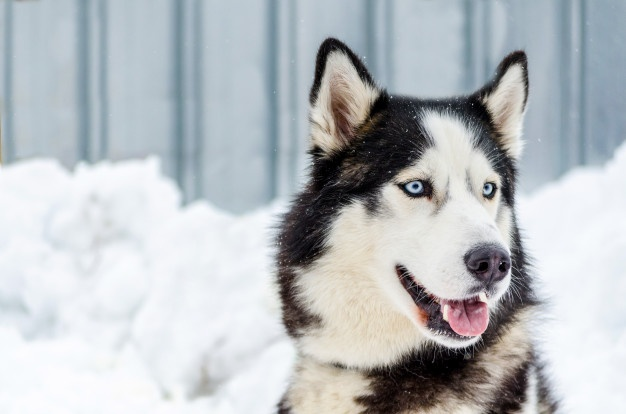husky: (252, 27, 575, 412)
